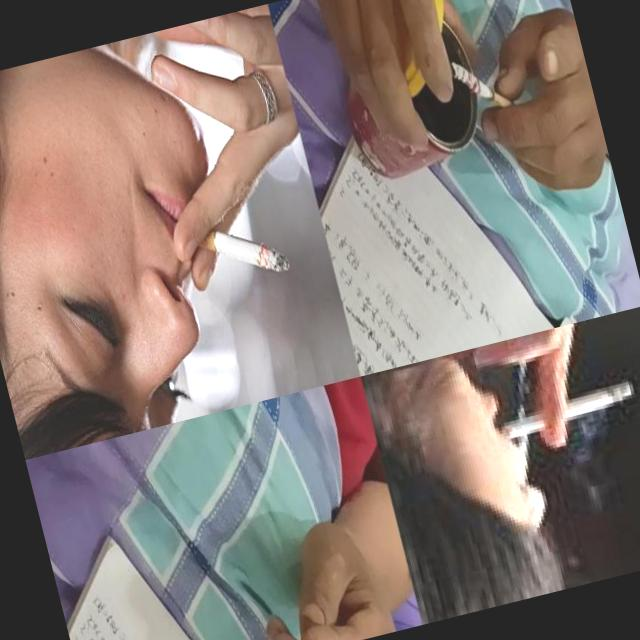cigarette: (485, 369, 640, 455), (186, 209, 292, 293), (451, 48, 515, 120)
